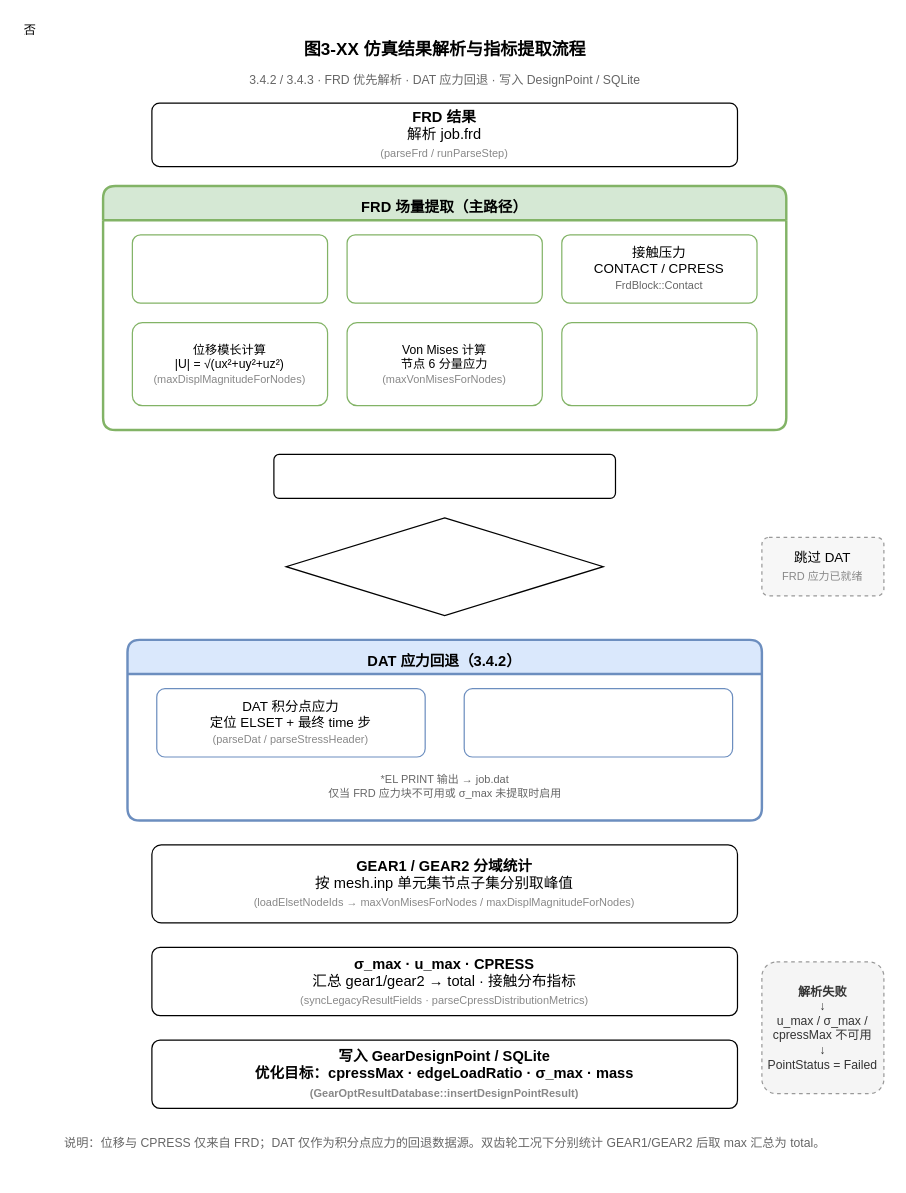
Some shapes in this 906 by 1193 pixel diagram are drawn without their labels. The shapes that lost their labels are listed below. From the top down, each one's centre as x and y in pixels, then its label:
At point (229, 268): "节点位移 DISP / U 块 FrdBlock::Disp".
At point (444, 268): "节点应力 STRESS 块 FrdBlock::Stress".
At point (659, 363): "CPRESS 峰值 最终 Step 全局 max (cpressMax_MPa)".
At point (444, 475): "FRD 主路径汇总".
At point (444, 566): "FRD 应力 是否缺失？".
At point (598, 722): "Von Mises 计算 积分点应力取 max (StressSample::vonMises)".
